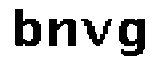b: (9, 6, 42, 49)
g: (117, 15, 151, 60)
n: (45, 15, 80, 54)
v: (79, 15, 113, 49)
